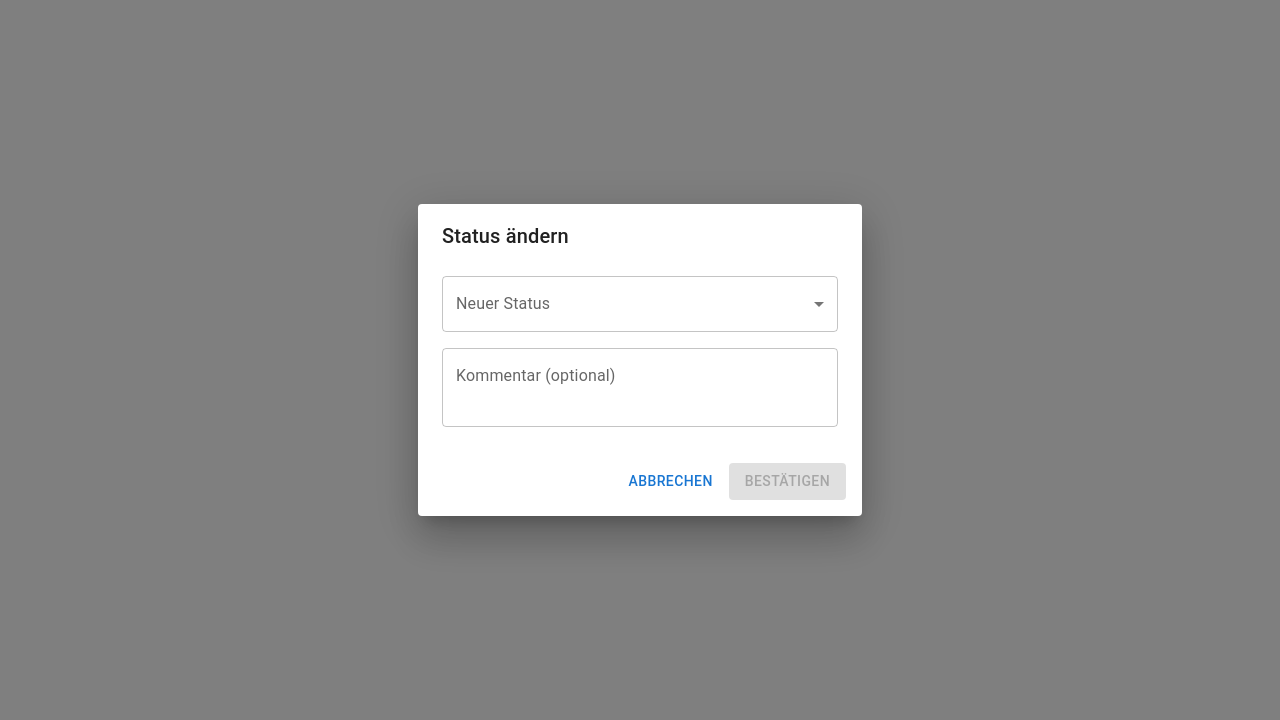
Test: StatusChangeDialog › only offers the allowed next statuses in the select
Click the dropdown named "Neuer Status": point(640, 304) [442, 276, 838, 332]
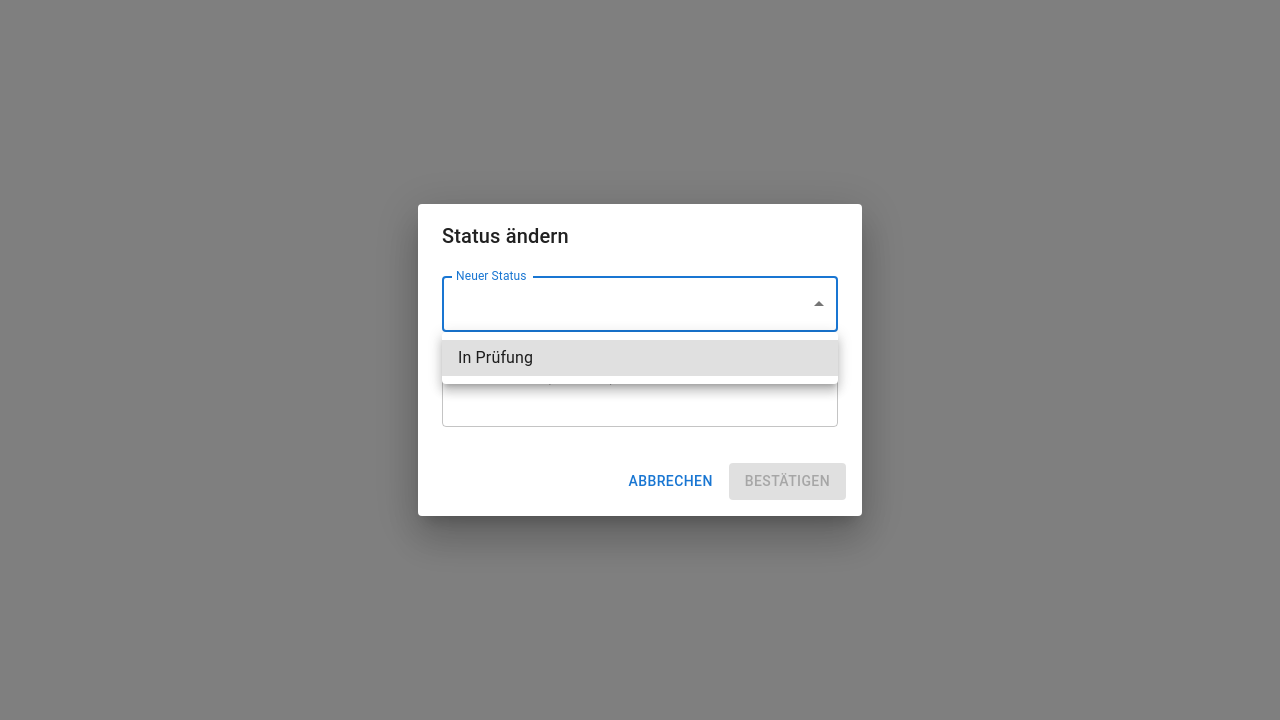
Check: the option "In Prüfung" is shown, box [442, 340, 838, 376]
